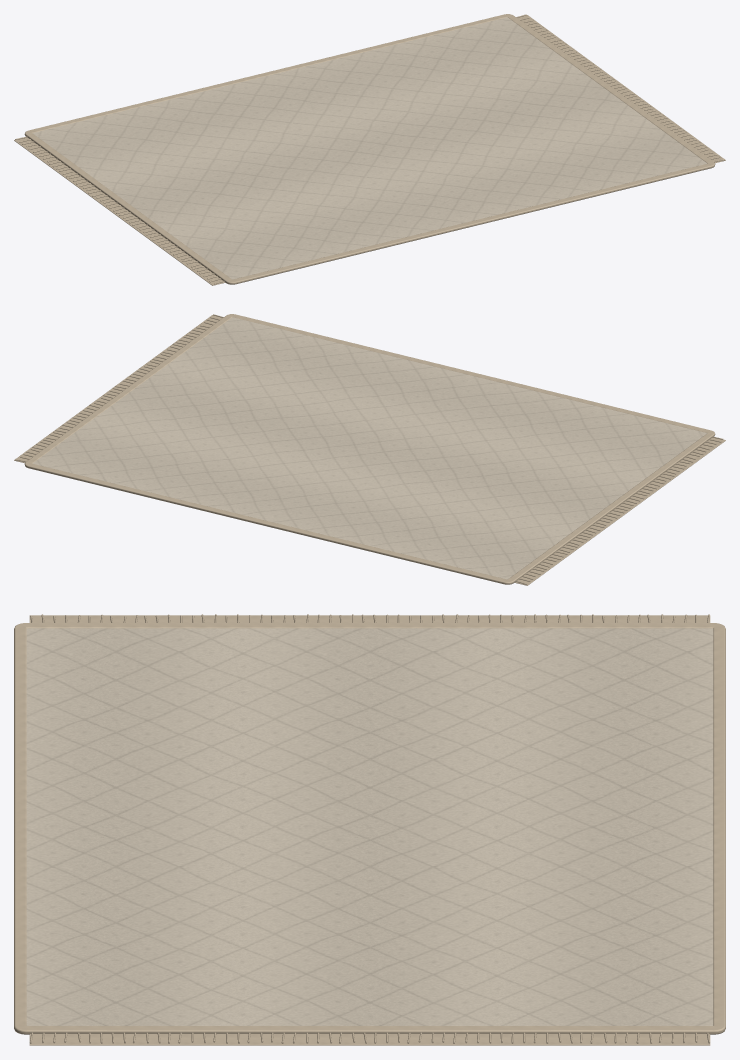
3 renders of one model, top to bottom at view 1: azimuth 30°, elevation 25°; view 2: azimuth 150°, elevation 25°; view 3: azimuth 270°, elevation 25°, orthographic. The views are drawn at different scales.
Visible parts, largest first — view 1: rug_field, rug_binding, fringe_heading_-1, fringe_heading_1; view 2: rug_field, rug_binding, fringe_heading_-1, fringe_heading_1; view 3: rug_field, rug_binding, fringe_heading_1, fringe_heading_-1.
Part boxes in pixels (x1=…): rug_field: x1=32, y1=17, x2=706, y2=279; rug_binding: x1=24, y1=14, x2=715, y2=284; fringe_heading_-1: x1=14, y1=137, x2=225, y2=285; fringe_heading_1: x1=517, y1=15, x2=725, y2=163; rug_field: x1=33, y1=317, x2=707, y2=579; rug_binding: x1=24, y1=314, x2=715, y2=584; fringe_heading_-1: x1=514, y1=437, x2=725, y2=585; fringe_heading_1: x1=14, y1=315, x2=222, y2=463; rug_field: x1=26, y1=628, x2=713, y2=1025; rug_binding: x1=14, y1=623, x2=725, y2=1034; fringe_heading_1: x1=29, y1=1034, x2=710, y2=1045; fringe_heading_-1: x1=29, y1=615, x2=710, y2=622.
Bounding box in the file's own units: 2 × 0.01 × 1.4.
2 materials, 2 textured.
